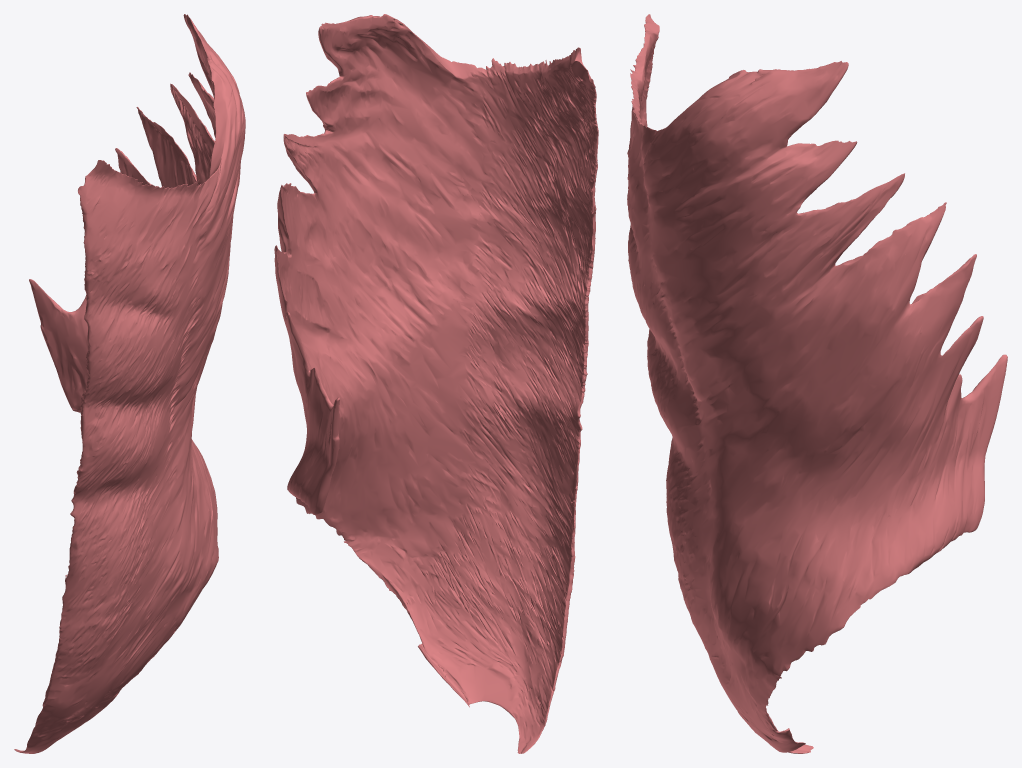
3 views of the same model, side by side, from view 1: azimuth 30°, elevation 25°; view 2: azimuth 150°, elevation 25°; view 3: azimuth 270°, elevation 25° (orthographic). The views are drawn at different scales.
Visible parts, largest first — view 1: FJ1452M; view 2: FJ1452M; view 3: FJ1452M.
Boxes of the visible parts, x1,y1,x2,y2 form: FJ1452M: (14,14,245,753); FJ1452M: (274,14,598,753); FJ1452M: (627,14,1007,753).
Size of the model in its own units: 0.1366 by 0.4157 by 0.1808.
